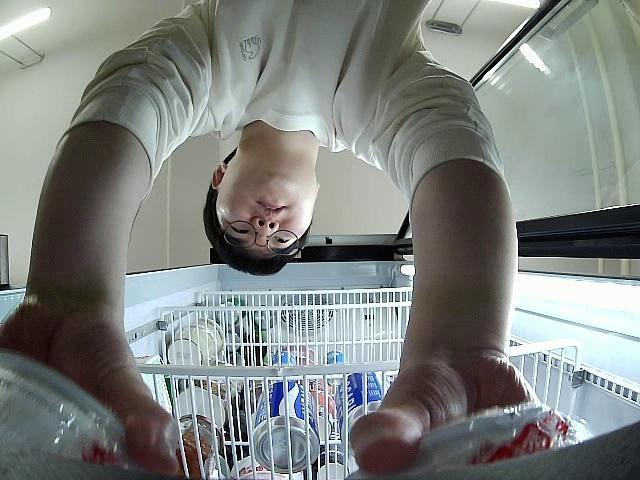09_yukGaeJang: (0, 351, 181, 480), (332, 403, 592, 480)
